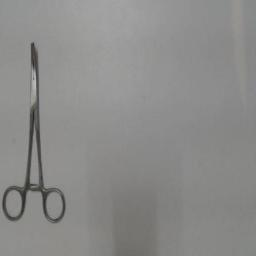Crile Artery Forceps: (0, 40, 70, 224)
